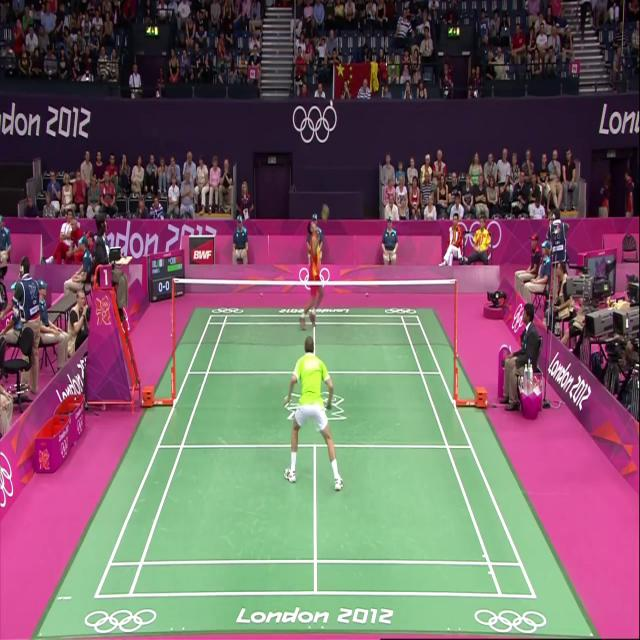Net: (172, 278, 461, 347)
Player1: (286, 328, 346, 504)
Player2: (294, 212, 330, 331)
Shuttlecock: (326, 98, 336, 109)
